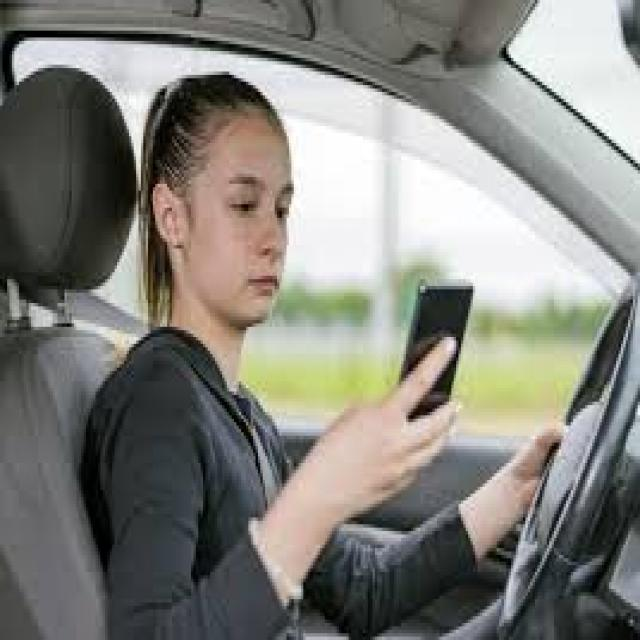Cellphone_texting: (358, 262, 487, 497)
